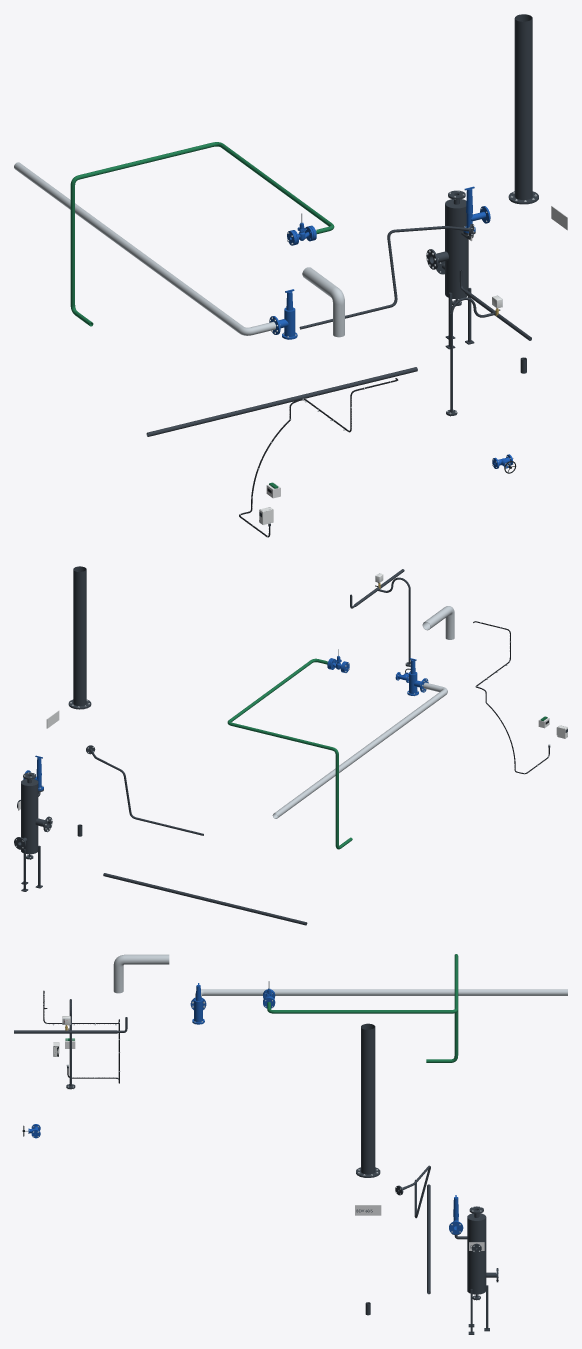
Rendered from s4000-5-C5-5-UPy.glb.
3 views of the same model, one above another, from view 1: azimuth 30°, elevation 25°; view 2: azimuth 150°, elevation 25°; view 3: azimuth 270°, elevation 25° (orthographic). The views are drawn at different scales.
Visible parts, largest first — view 1: bdv_vent / dark, separator_fv8 / dark, safety_vent_2 / steel, from_economizer / green, bottom_discharge / dark, steam_rise / steel, pressure_header / dark, tds_without_fv / dark, wiring_lcs600 / black, safety_2 / blue; view 2: bdv_vent / dark, separator_fv8 / dark, safety_vent_2 / steel, from_economizer / green, bottom_discharge / dark, pressure_header / dark, steam_rise / steel, tds_without_fv / dark; view 3: safety_vent_2 / steel, bdv_vent / dark, separator_fv8 / dark, from_economizer / green, steam_rise / steel, pressure_header / dark.
Part boxes in pixels (left/top/right/bottom): bdv_vent / dark: left=508, top=14, right=538, bottom=204; separator_fv8 / dark: left=426, top=190, right=475, bottom=349; safety_vent_2 / steel: left=14, top=162, right=275, bottom=335; from_economizer / green: left=70, top=142, right=334, bottom=326; bottom_discharge / dark: left=146, top=367, right=417, bottom=436; steam_rise / steel: left=302, top=267, right=344, bottom=337; pressure_header / dark: left=446, top=270, right=531, bottom=415; tds_without_fv / dark: left=299, top=224, right=473, bottom=329; wiring_lcs600 / black: left=239, top=378, right=398, bottom=537; safety_2 / blue: left=269, top=289, right=297, bottom=339; bdv_vent / dark: left=68, top=566, right=91, bottom=709; separator_fv8 / dark: left=14, top=772, right=52, bottom=891; safety_vent_2 / steel: left=272, top=682, right=447, bottom=818; from_economizer / green: left=227, top=658, right=352, bottom=849; bottom_discharge / dark: left=103, top=873, right=307, bottom=925; pressure_header / dark: left=350, top=569, right=410, bottom=666; steam_rise / steel: left=422, top=606, right=454, bottom=639; tds_without_fv / dark: left=86, top=745, right=203, bottom=835; safety_vent_2 / steel: left=195, top=989, right=567, bottom=997; bdv_vent / dark: left=356, top=1023, right=380, bottom=1177; separator_fv8 / dark: left=451, top=1206, right=498, bottom=1334; from_economizer / green: left=267, top=954, right=458, bottom=1062; steam_rise / steel: left=113, top=954, right=169, bottom=993; pressure_header / dark: left=14, top=999, right=127, bottom=1089.
Size of the model in its own units: 5.3 by 3.85 by 6.38.
